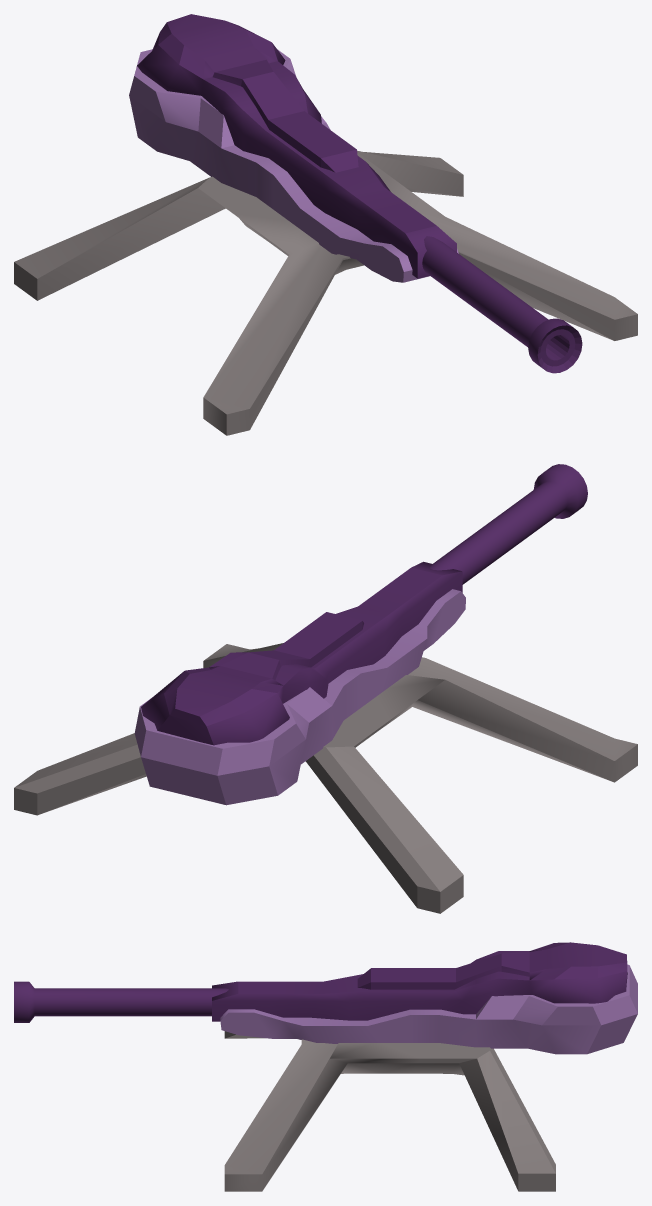
File: Sniper.fbx
The picture shows the model from 3 angles, top to bottom: view 1: azimuth 30°, elevation 25°; view 2: azimuth 150°, elevation 25°; view 3: azimuth 270°, elevation 25°; orthographic projection. The views are drawn at different scales.
Parts seen in each view (by area): view 1: polySurface13, pCube11, pCube10, pCylinder7; view 2: polySurface13, pCube11, pCube10, pCylinder7; view 3: polySurface13, pCube11, pCube10, pCylinder7.
Part boxes in pixels (left/top/right/bottom): polySurface13: left=14, top=150, right=637, bottom=435; pCube11: left=137, top=14, right=456, bottom=278; pCube10: left=129, top=49, right=458, bottom=282; pCylinder7: left=422, top=236, right=582, bottom=373; polySurface13: left=14, top=643, right=637, bottom=913; pCube11: left=141, top=561, right=462, bottom=745; pCube10: left=134, top=589, right=465, bottom=805; pCylinder7: left=429, top=464, right=587, bottom=584; polySurface13: left=224, top=1031, right=555, bottom=1191; pCube11: left=212, top=942, right=627, bottom=1021; pCube10: left=220, top=964, right=637, bottom=1054; pCylinder7: left=14, top=981, right=228, bottom=1022.
Size of the model in its own units: 6.35 by 2.73 by 9.97.
